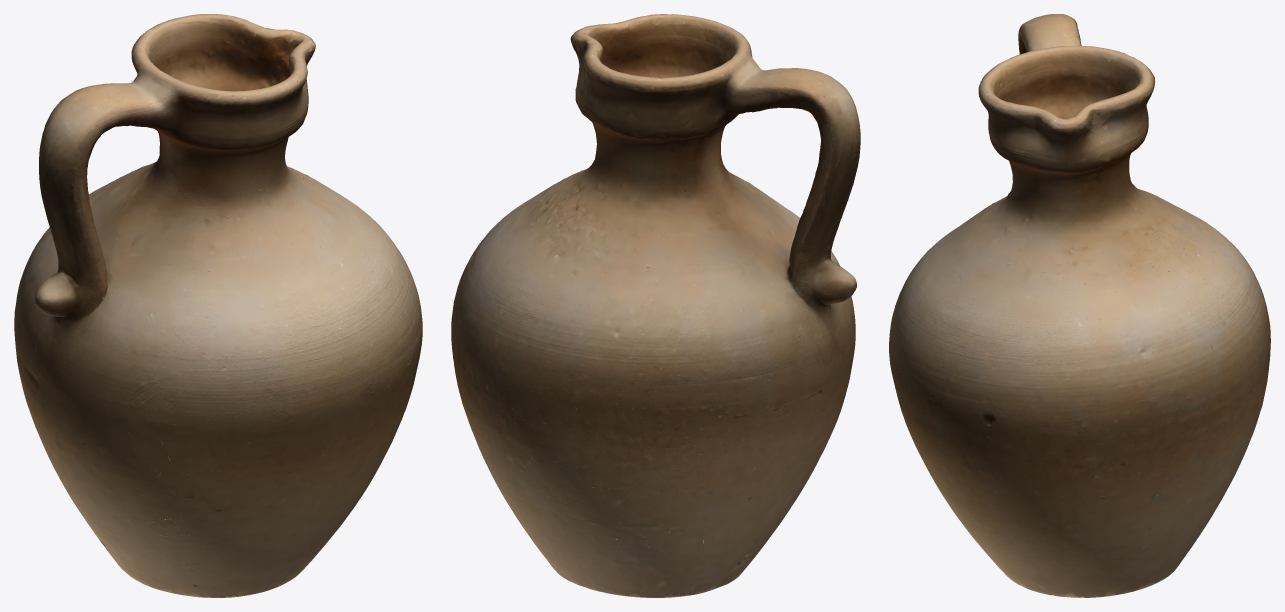
File: botija_de_boca_de_vinagre.lod2.glb
3 renders of one model, left to right at view 1: azimuth 30°, elevation 25°; view 2: azimuth 150°, elevation 25°; view 3: azimuth 270°, elevation 25°, orthographic. The views are drawn at different scales.
Visible parts, largest first — view 1: Object_2, Object_3; view 2: Object_2, Object_3; view 3: Object_3, Object_2.
Boxes of the visible parts, x1,y1,x2,y2 form: Object_2: (14, 14, 398, 597); Object_3: (16, 30, 422, 597); Object_2: (451, 14, 859, 595); Object_3: (451, 14, 860, 597); Object_3: (889, 14, 1270, 597); Object_2: (890, 14, 1270, 571).
Size of the model in its own units: 1.26 by 1.7 by 1.21.
1 material, 1 textured.
